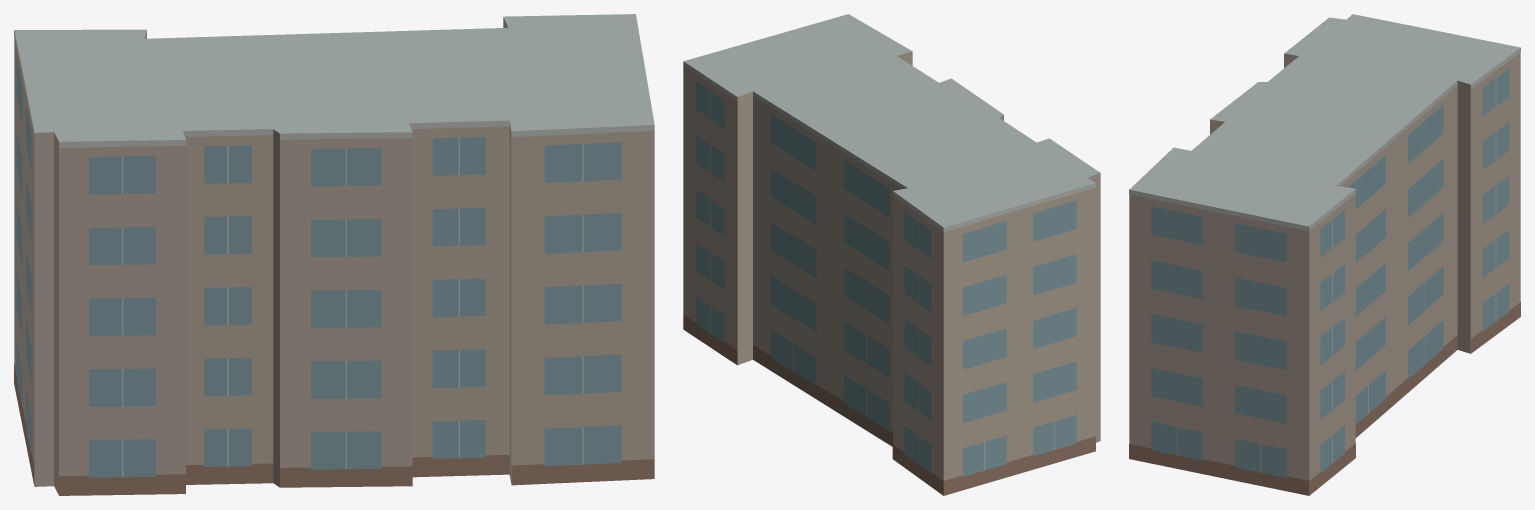
The model's file is survey-upis-32986332.glb.
3 views of the same model, side by side, from view 1: azimuth 30°, elevation 25°; view 2: azimuth 150°, elevation 25°; view 3: azimuth 270°, elevation 25° (orthographic). The views are drawn at different scales.
Parts seen in each view (by area): view 1: survey-upis-32986332.tmp; view 2: survey-upis-32986332.tmp; view 3: survey-upis-32986332.tmp.
Part boxes in pixels (x1,y1,x2,y2): survey-upis-32986332.tmp: (14, 14, 654, 495); survey-upis-32986332.tmp: (683, 14, 1100, 495); survey-upis-32986332.tmp: (1129, 14, 1520, 495).
Bounding box in the file's own units: 24.39 × 14.4 × 18.99.
